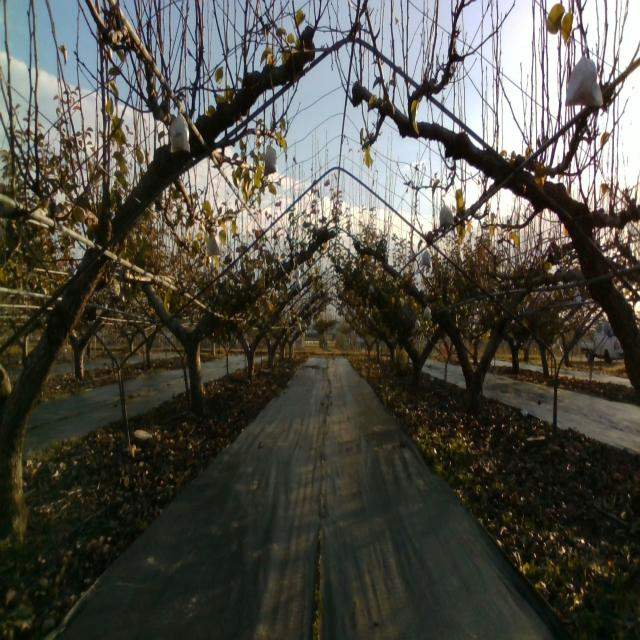pearbags: (564, 42, 604, 108), (169, 98, 191, 155), (263, 143, 278, 176), (439, 198, 455, 226), (206, 230, 223, 256)
